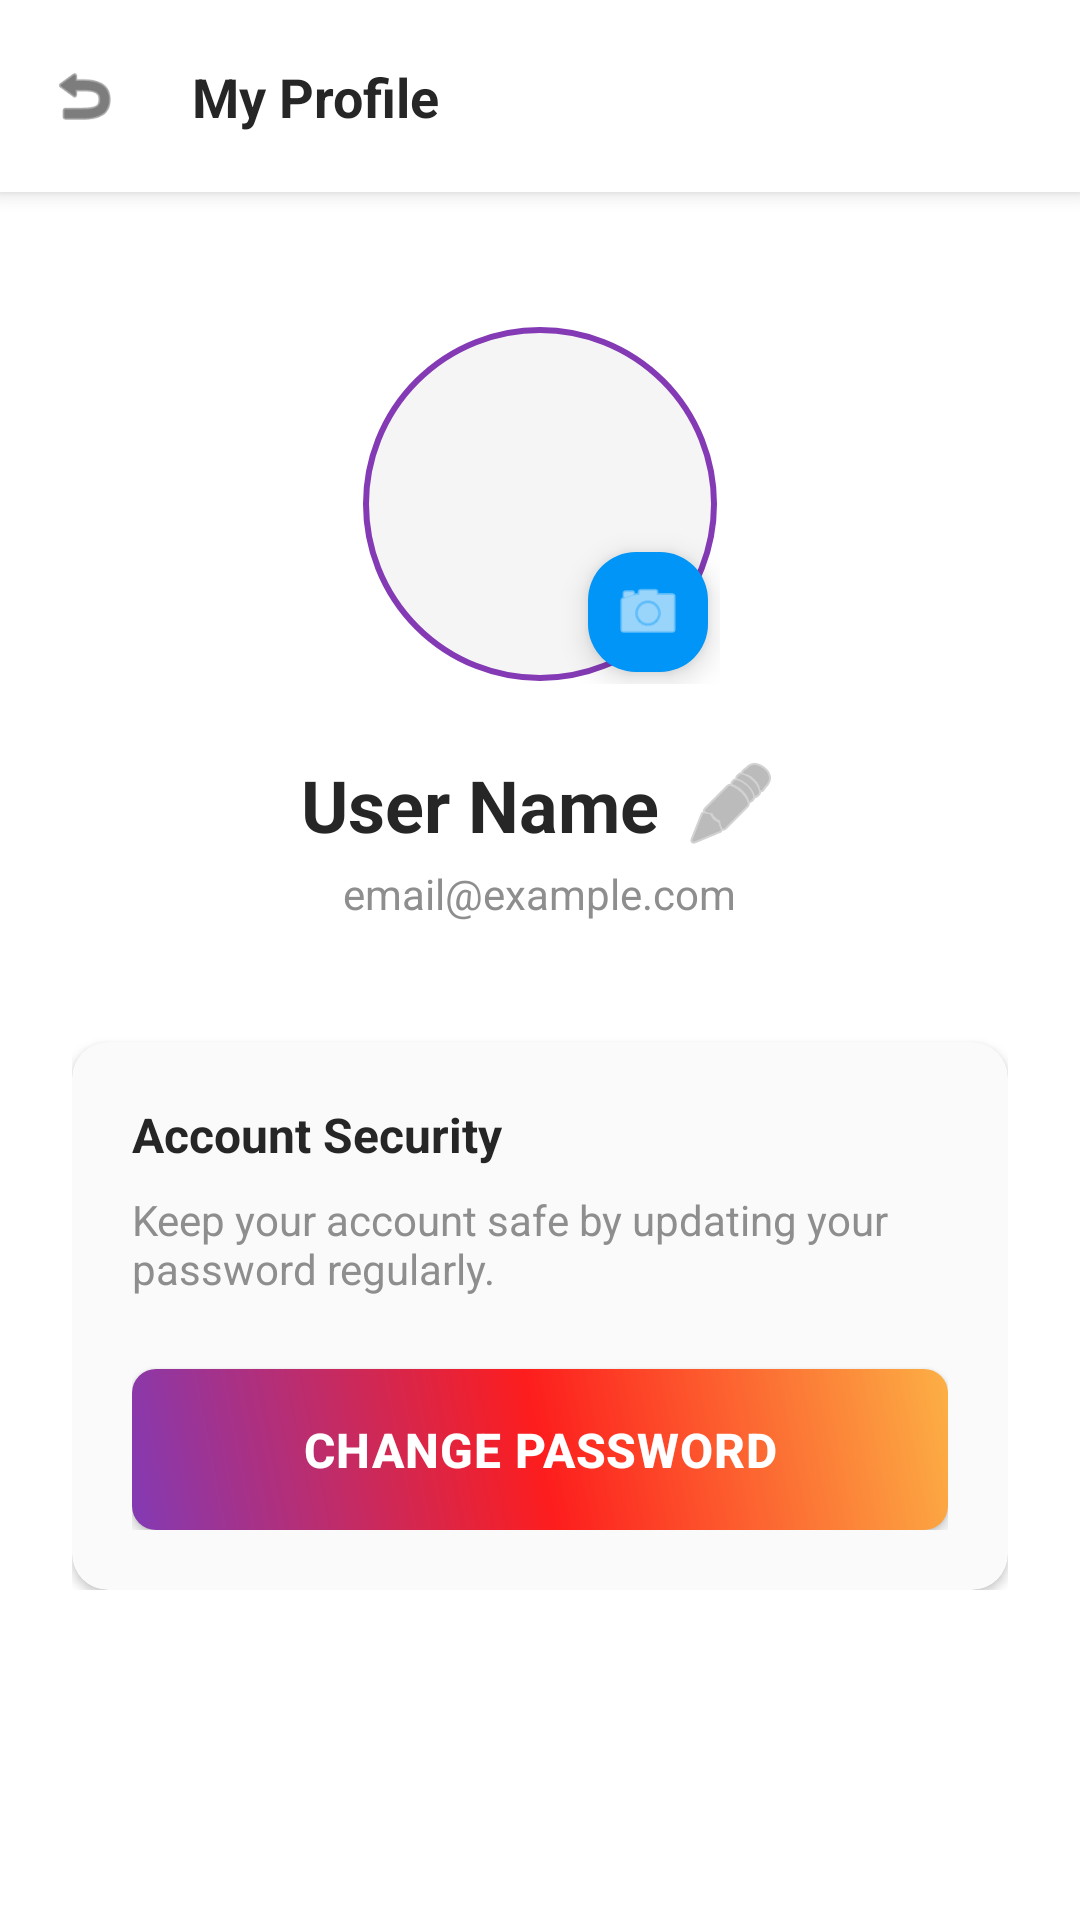

Named icons in this screenshot (1080×1920) and their centers, (x=x, y=y):
camera: (x=644, y=608)
edit: (x=730, y=803)
revert: (x=85, y=96)
